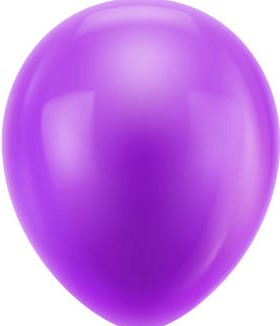Balloon: (1, 1, 279, 325)
